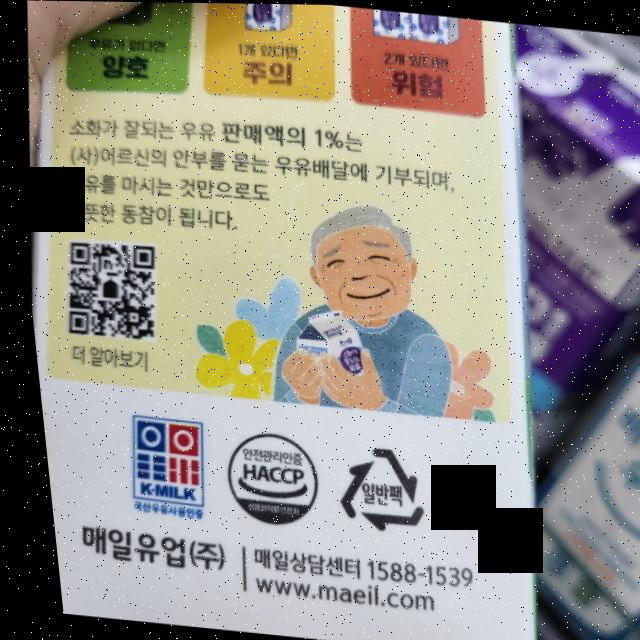NormalPack: (315, 435, 423, 543)
